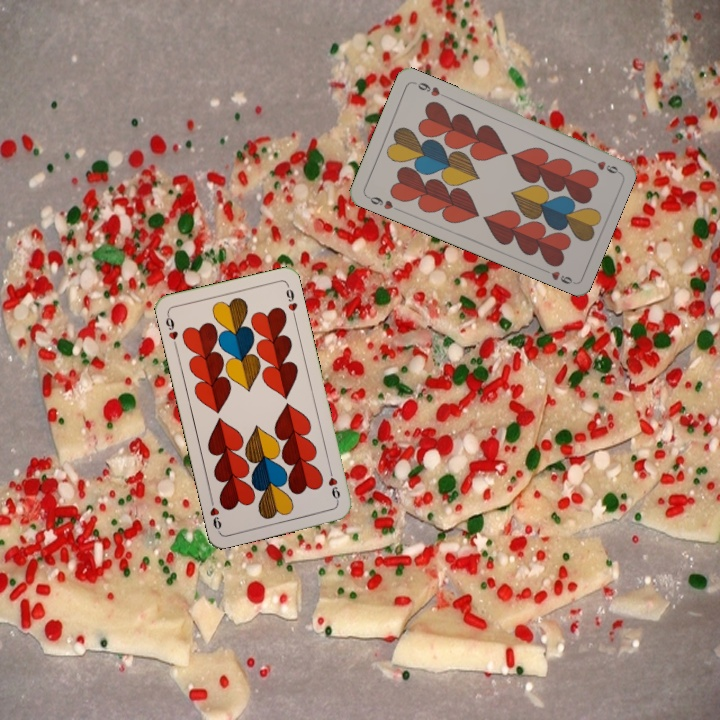H9: (582, 154, 621, 176), (363, 192, 402, 213), (161, 309, 181, 349), (324, 465, 343, 505)
